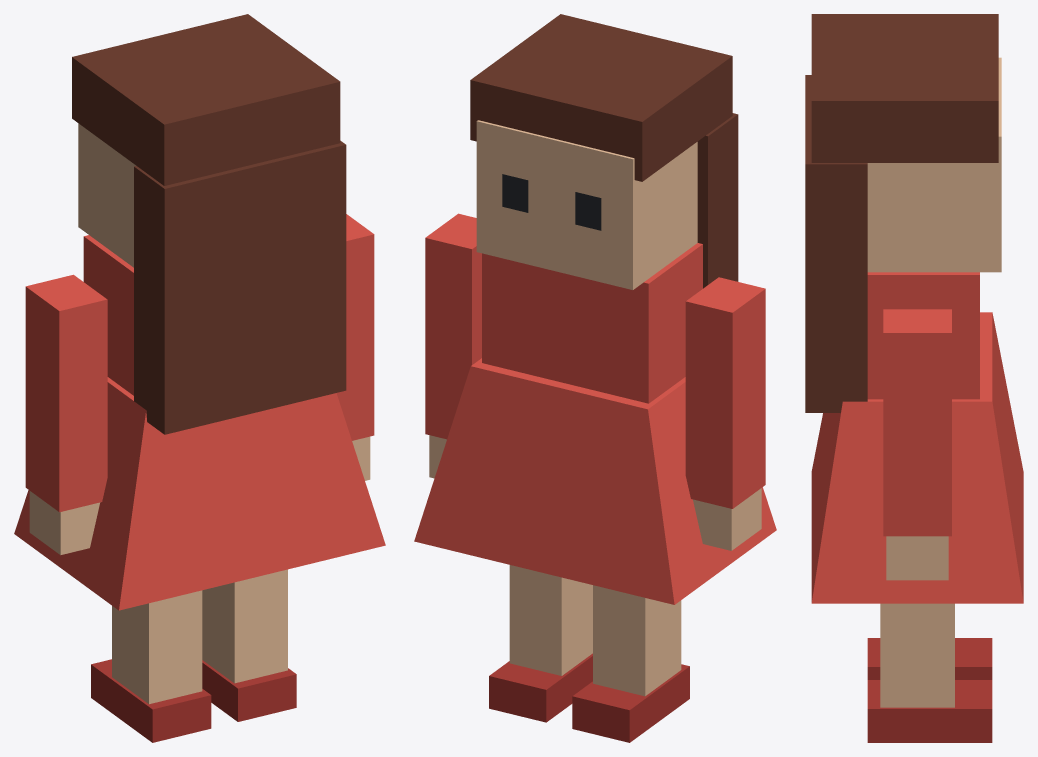
Rendered from H_Woman.fbx.
3 renders of one model, left to right at view 1: azimuth 30°, elevation 25°; view 2: azimuth 150°, elevation 25°; view 3: azimuth 270°, elevation 25°, orthographic. The views are drawn at different scales.
Parts seen in each view (by area): view 1: H_Woman.004; view 2: H_Woman.004; view 3: H_Woman.004.
Boxes of the visible parts, x1,y1,x2,y2 form: H_Woman.004: (14, 14, 385, 742); H_Woman.004: (414, 14, 776, 742); H_Woman.004: (805, 14, 1023, 742).
Bounding box in the file's own units: 0.59 × 1.15 × 0.35.
